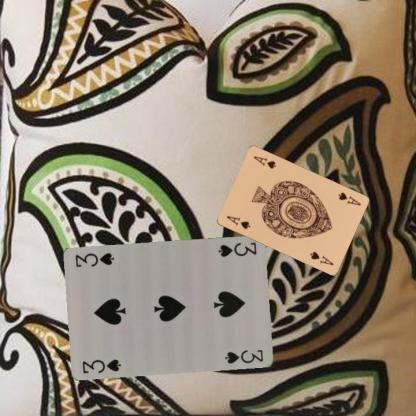3s: (216, 239, 258, 258), (80, 356, 123, 374)
As: (224, 213, 251, 231), (335, 189, 362, 207)
